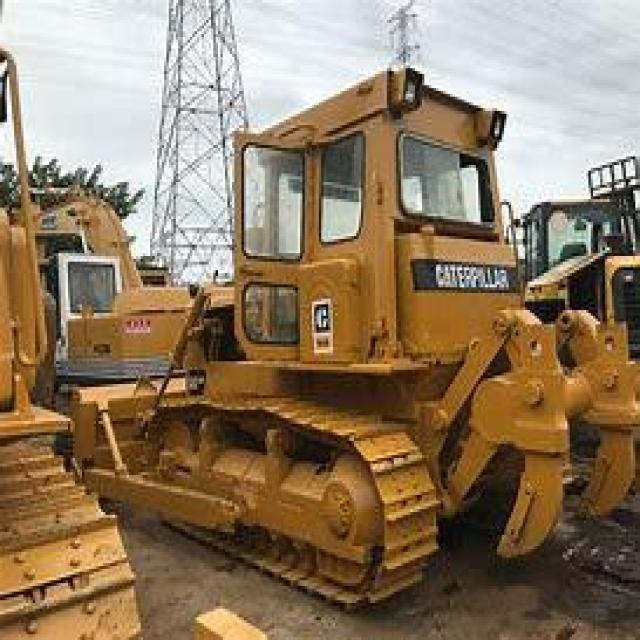buldozerpayloadergrader: (77, 51, 638, 609)
